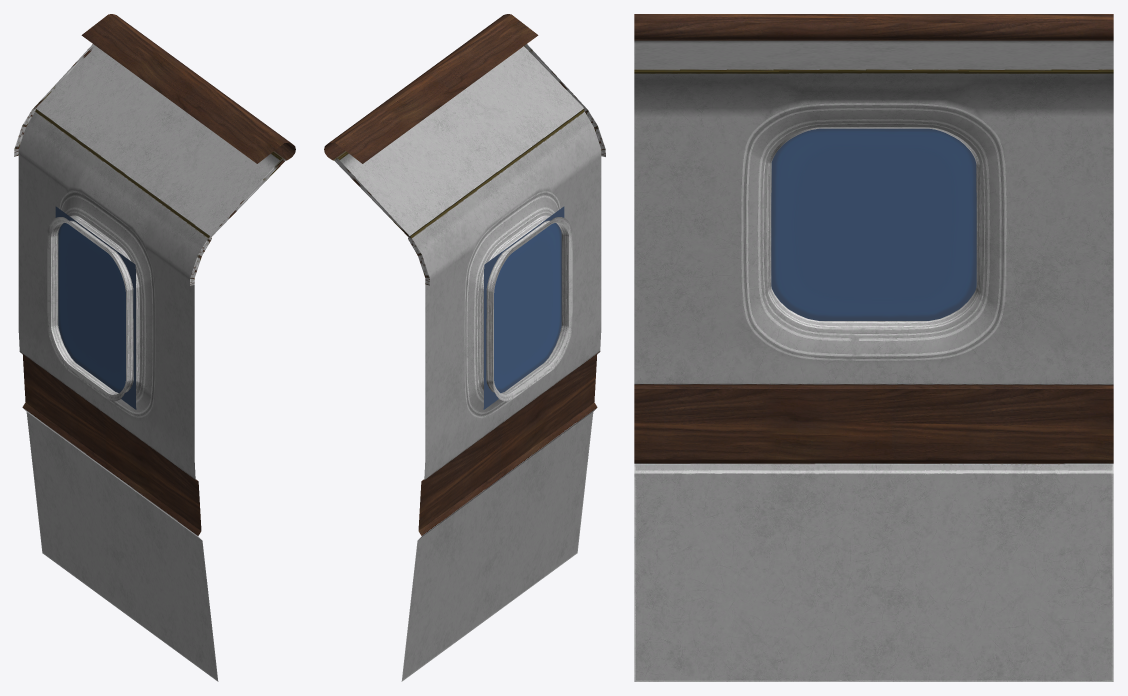
Rendered from plane_interior_wall.dae.
The picture shows the model from 3 angles, left to right: view 1: azimuth 30°, elevation 25°; view 2: azimuth 150°, elevation 25°; view 3: azimuth 270°, elevation 25°; orthographic projection. The views are drawn at different scales.
Visible parts, largest first — view 1: plane_interior_wall, interior_wall_window; view 2: plane_interior_wall, interior_wall_window; view 3: plane_interior_wall, interior_wall_window.
Part boxes in pixels (<box>): plane_interior_wall: <box>14,14,295,681</box>; interior_wall_window: <box>55,206,136,409</box>; plane_interior_wall: <box>324,14,605,681</box>; interior_wall_window: <box>483,206,564,409</box>; plane_interior_wall: <box>634,14,1113,681</box>; interior_wall_window: <box>771,128,976,320</box>.
Bounding box in the file's own units: 39.64 × 164 × 100.
